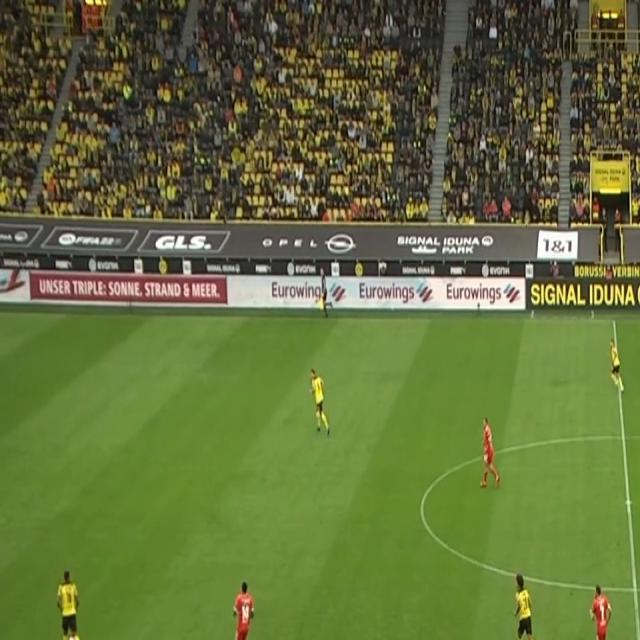ball: (68, 634, 77, 640)
